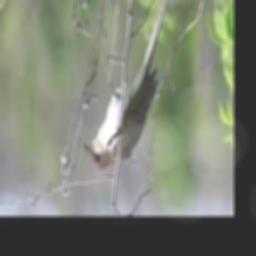Cuckoo: (83, 0, 170, 172)
